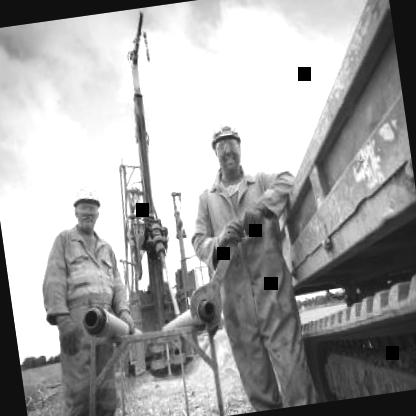helmet: (203, 107, 251, 183), (64, 178, 108, 234)
